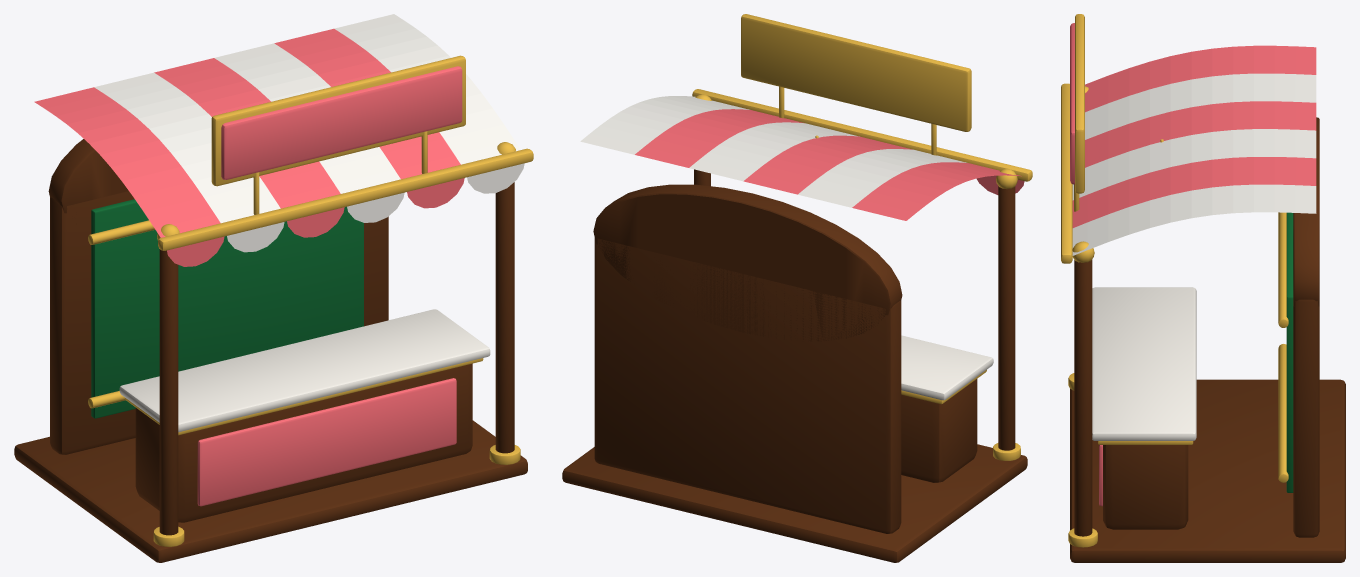
File: CueShop.fbx
3 renders of one model, left to right at view 1: azimuth 30°, elevation 25°; view 2: azimuth 150°, elevation 25°; view 3: azimuth 270°, elevation 25°, orthographic. The views are drawn at different scales.
Parts seen in each view (by area): view 1: CueShop; view 2: CueShop; view 3: CueShop.
Boxes of the visible parts, x1,y1,x2,y2 form: CueShop: (14,14,533,562); CueShop: (562,14,1032,562); CueShop: (1061,14,1345,562).
Bounding box in the file's own units: 1240 × 1370 × 867.
